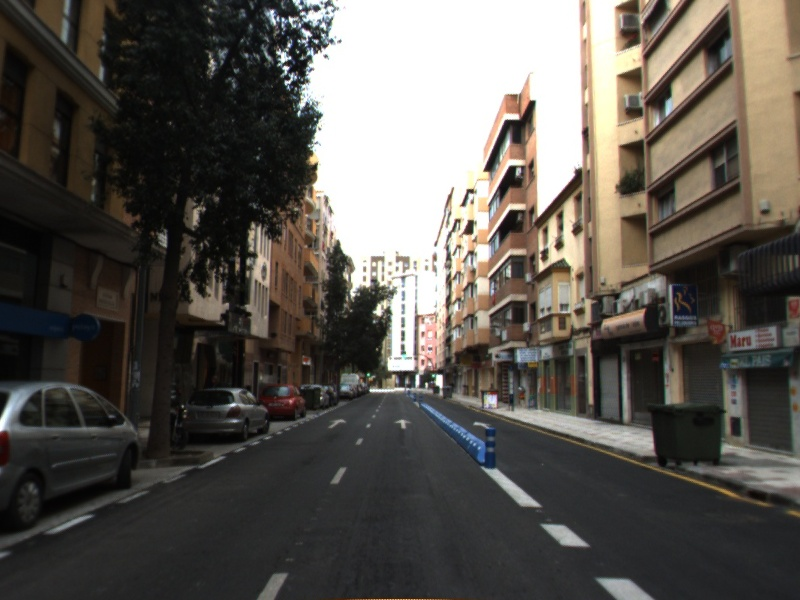STRAIGHT: (326, 417, 348, 429), (393, 418, 413, 430), (472, 420, 493, 430)
